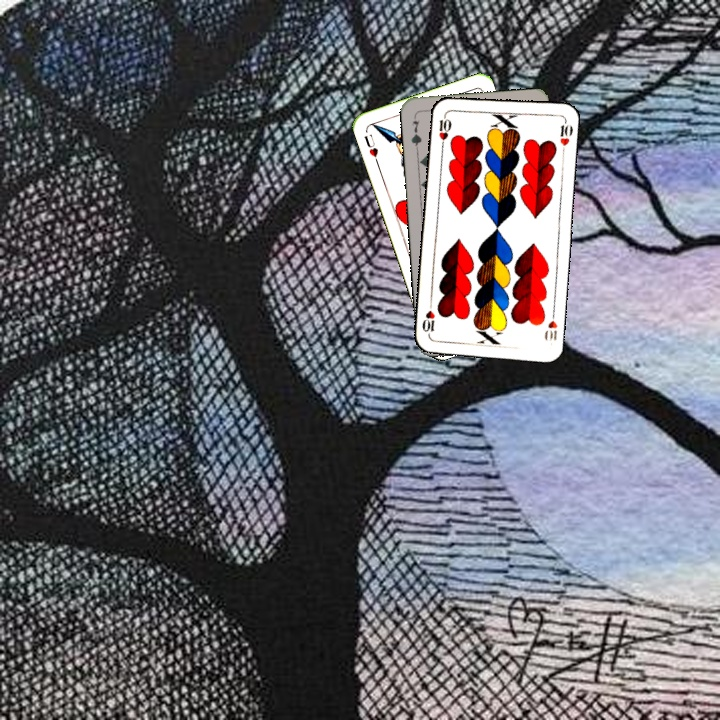G7: (407, 112, 424, 152)
H10: (540, 306, 560, 343), (435, 109, 453, 150)
HU: (360, 130, 381, 166)
